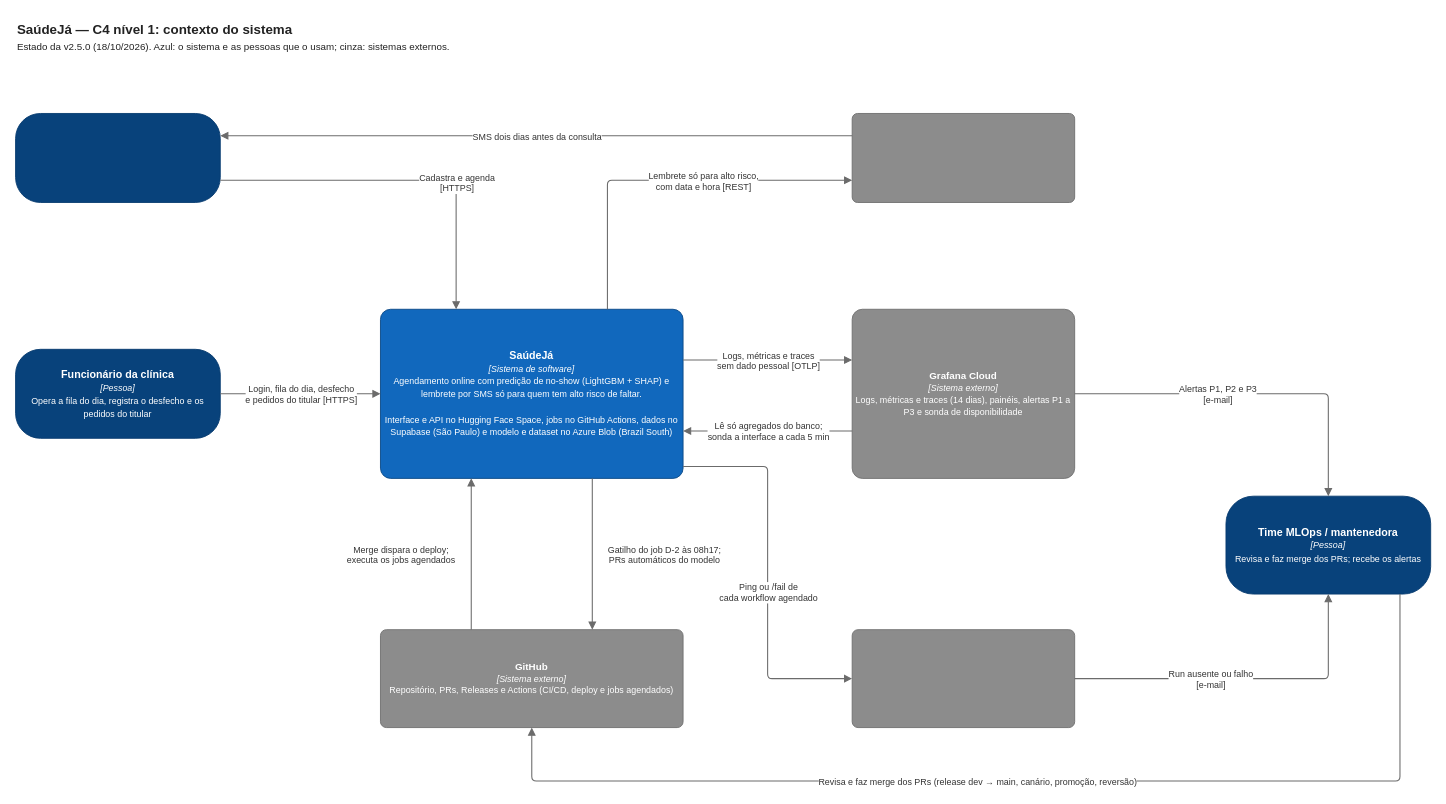
The diagram is 1446 pixels wide and 804 high, and some of its shapes have lost their labels. Here are the shapes that lost their labels. From the top down, the centre of each, then its label:
At pixel 117 157: "Paciente [Pessoa] Lê a política e os termos, cadastra-se e agenda a consulta".
At pixel 963 157: "Infobip [Sistema externo] Gateway de SMS".
At pixel 963 678: "Healthchecks.io [Sistema externo] Dead-man's switch dos workflows agendados".
